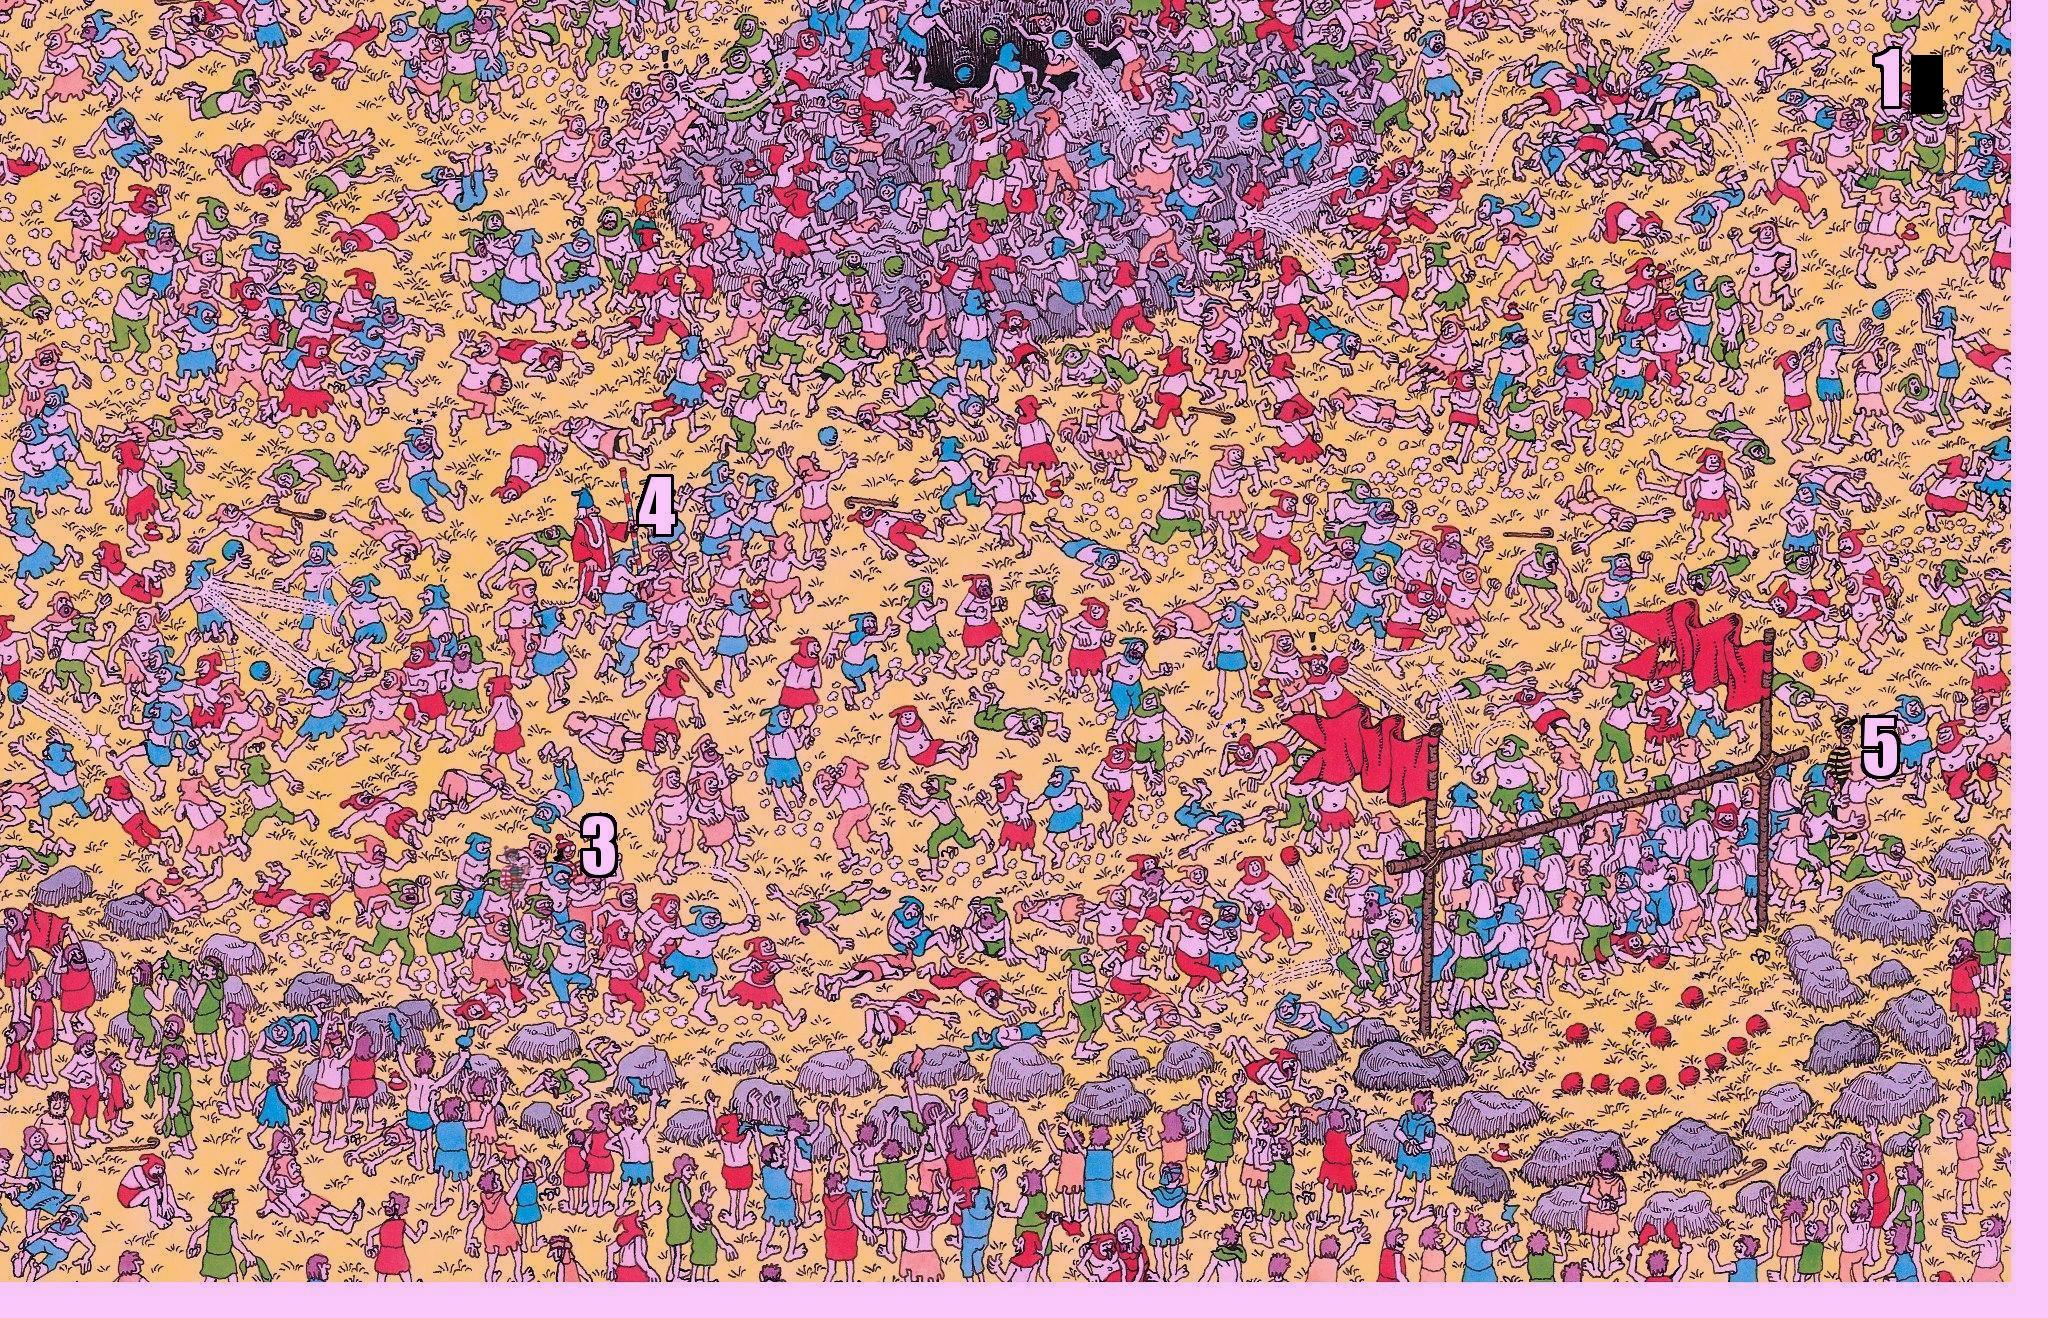waldos: (500, 843, 531, 902)
